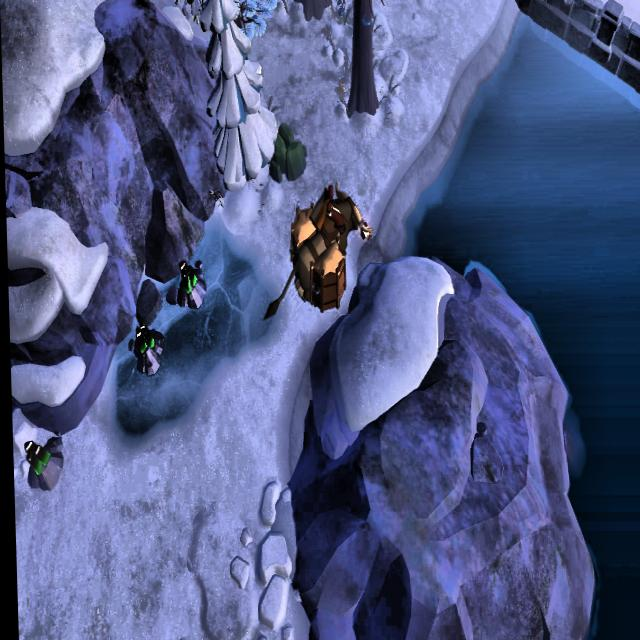ore_t3: (21, 433, 48, 479), (132, 316, 154, 358), (179, 257, 196, 300)
rock_t3: (265, 121, 307, 187)
